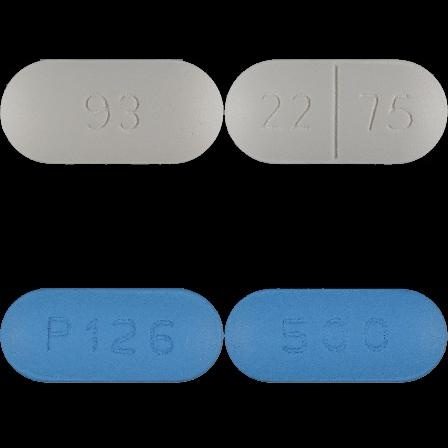66116-478: (0, 0, 224, 224)
